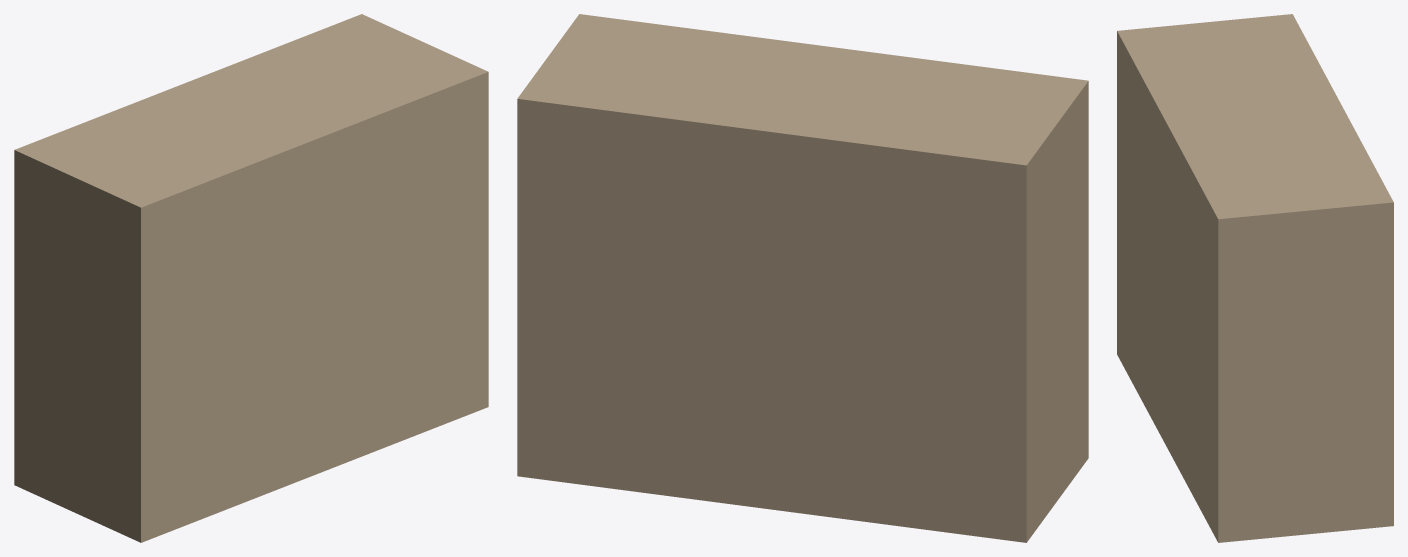
The model's file is bld_107639529.dae.
The picture shows the model from 3 angles, left to right: view 1: azimuth 30°, elevation 25°; view 2: azimuth 150°, elevation 25°; view 3: azimuth 270°, elevation 25°; orthographic projection. The views are drawn at different scales.
Parts seen in each view (by area): view 1: bld_107639529; view 2: bld_107639529; view 3: bld_107639529.
Boxes of the visible parts, bbox=[...] form: bld_107639529: bbox=[14, 14, 488, 542]; bld_107639529: bbox=[517, 14, 1088, 542]; bld_107639529: bbox=[1117, 14, 1393, 542].
Size of the model in its own units: 10.88 by 6.2 by 8.
